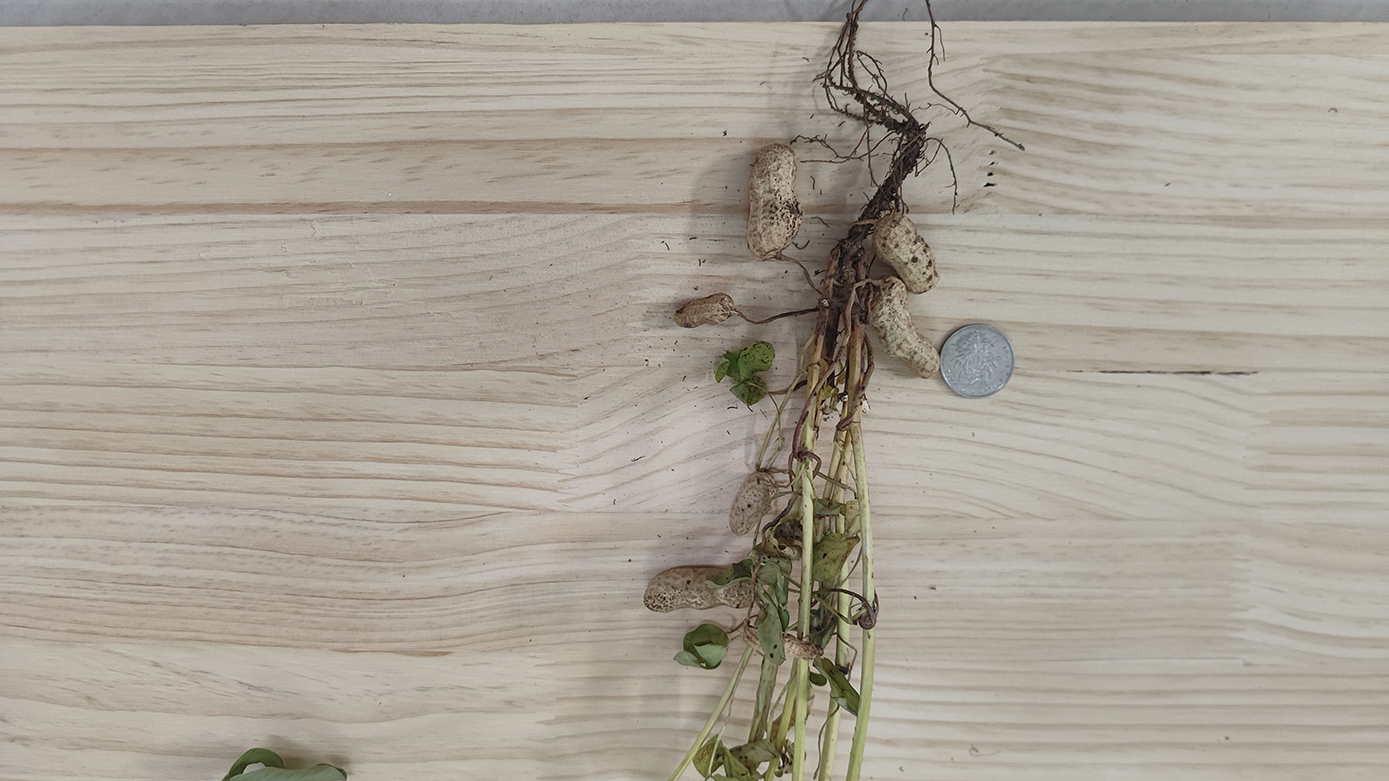h: (867, 277, 941, 377), (746, 144, 802, 256), (643, 564, 760, 613), (873, 212, 938, 294), (729, 471, 778, 535), (674, 291, 735, 329)
l: (744, 630, 822, 663)
